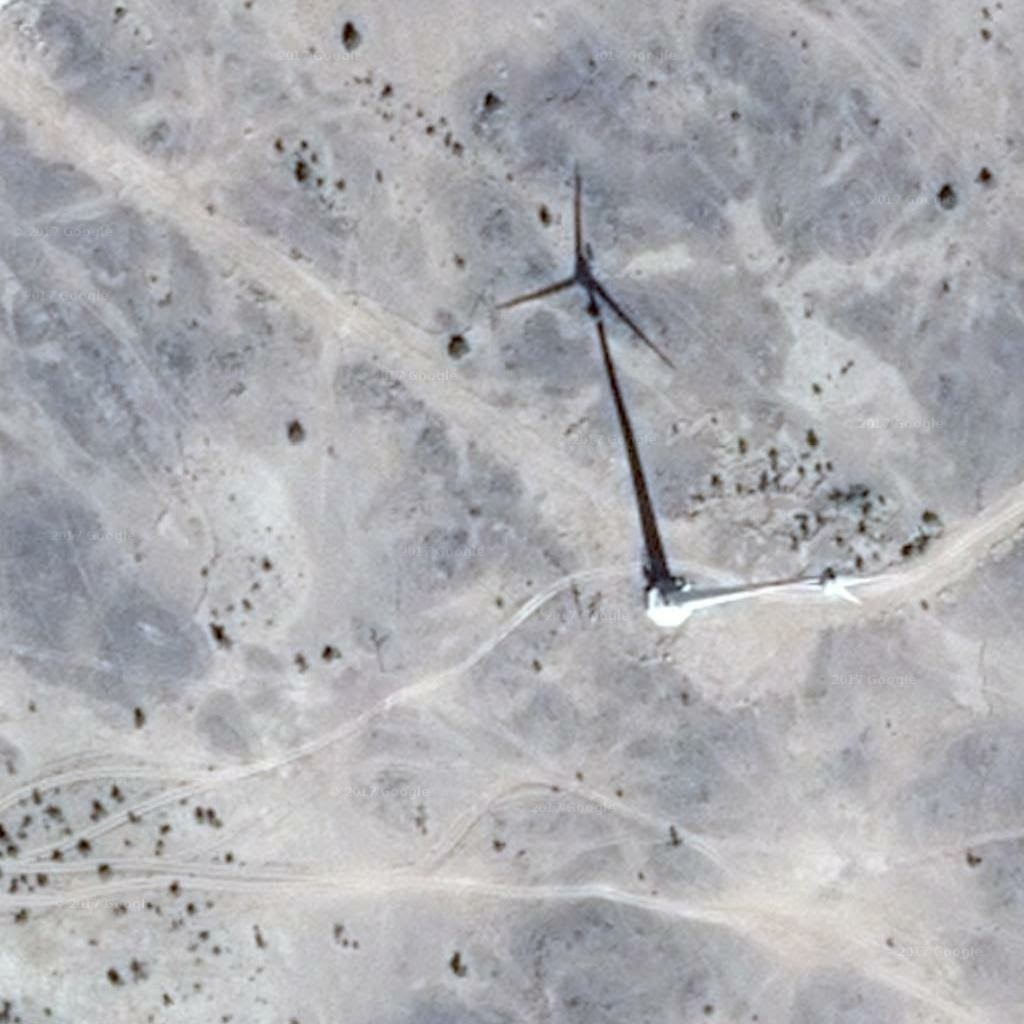Windmill: (501, 154, 694, 582)
